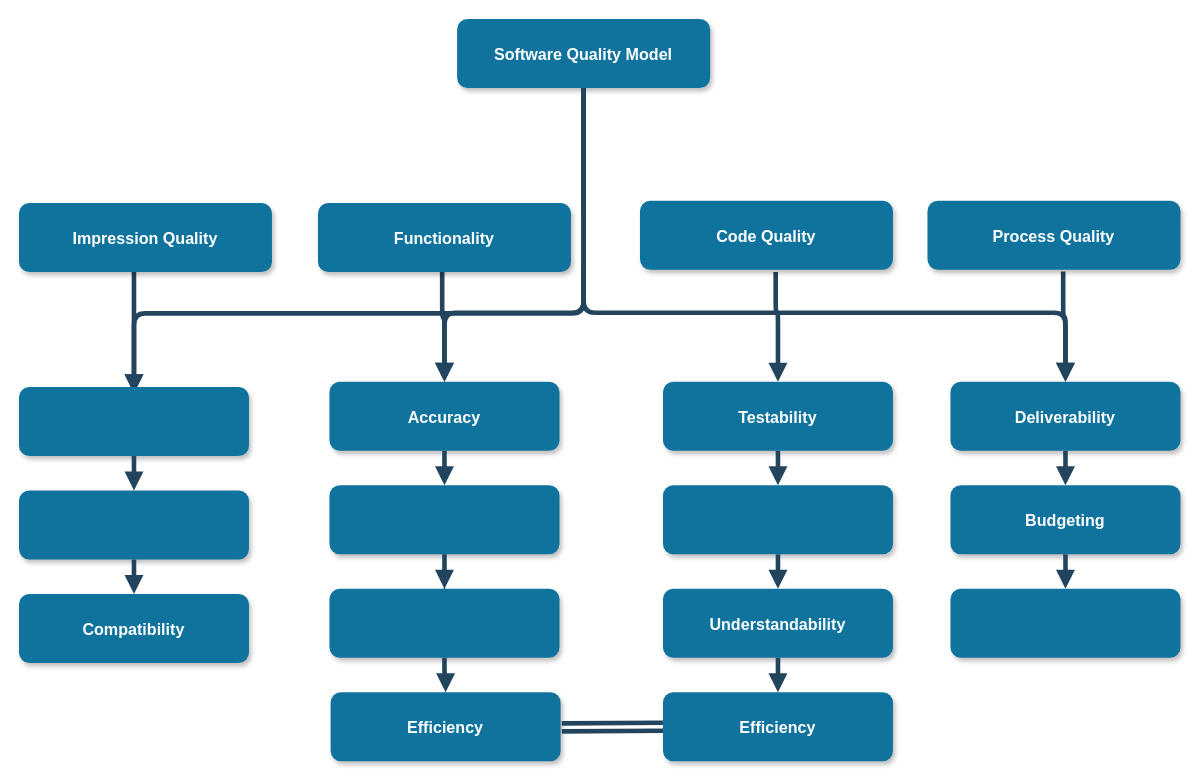
Some shapes in this 1199 by 780 pixel diagram are drawn without their labels. The shapes that lost their labels are listed below. From the top down, each one's centre as x and y in pixels, then its label:
At [134,422]: "Acceptance".
At [134,526]: "Attractiveness".
At [445,521]: "Reliability".
At [778,521]: "Modifiability".
At [445,624]: "Robustness".
At [1066,624]: "Time management & Regular meeting".
